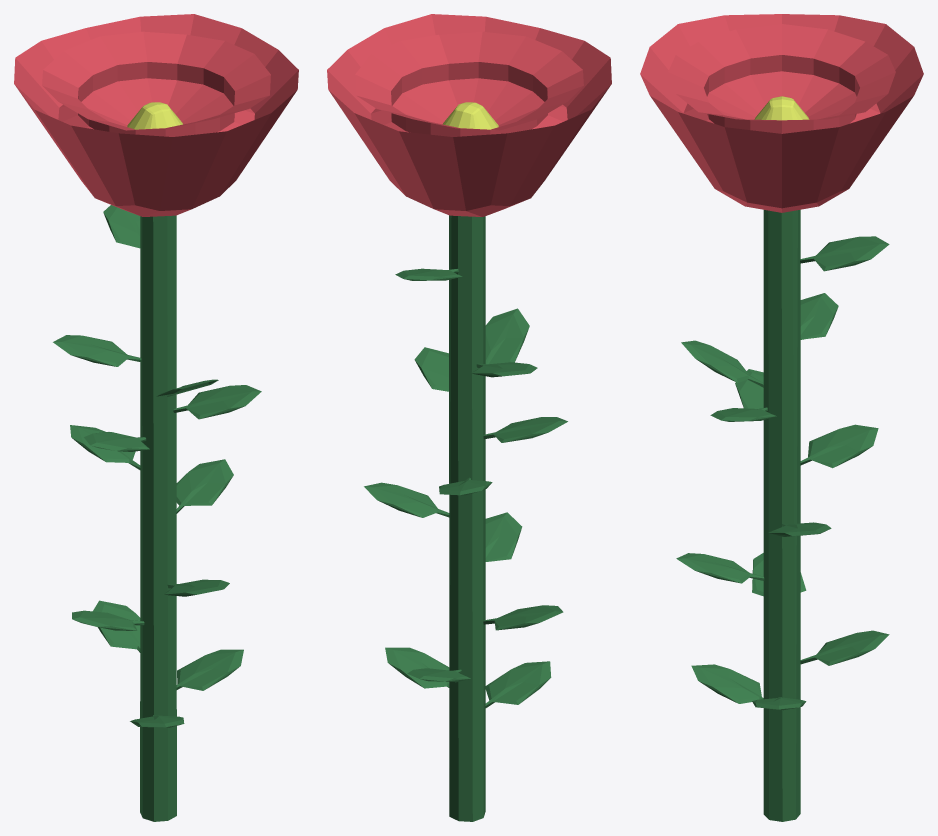
File: flower.gltf
The picture shows the model from 3 angles, left to right: view 1: azimuth 30°, elevation 25°; view 2: azimuth 150°, elevation 25°; view 3: azimuth 270°, elevation 25°; orthographic projection.
Parts seen in each view (by area): view 1: pistil, tige, feuille.003, feuille.009, feuille.004, feuille.011, feuille.008, feuille.007, feuille.002, feuille.001, feuille.006, feuille.005 (+1 smaller); view 2: pistil, tige, feuille.010, feuille, feuille.003, feuille.005, feuille.009, feuille.001, feuille.006, feuille.004, feuille.011, feuille.007 (+2 smaller); view 3: pistil, tige, feuille.002, feuille.007, feuille.010, feuille.008, feuille.011, feuille, feuille.005, feuille.001, feuille.004, feuille.003 (+1 smaller).
Boxes of the visible parts, left/top/right/bottom form: pistil: left=14, top=14, right=298, bottom=216; tige: left=140, top=215, right=176, bottom=821; feuille.003: left=176, top=459, right=233, bottom=513; feuille.009: left=176, top=649, right=243, bottom=690; feuille.004: left=173, top=385, right=261, bottom=419; feuille.011: left=53, top=335, right=141, bottom=366; feuille.008: left=93, top=600, right=140, bottom=652; feuille.007: left=103, top=205, right=140, bottom=248; feuille.002: left=70, top=425, right=140, bottom=469; feuille.001: left=84, top=432, right=149, bottom=451; feuille.006: left=72, top=610, right=144, bottom=630; feuille.005: left=164, top=579, right=229, bottom=596; pistil: left=327, top=14, right=611, bottom=216; tige: left=449, top=215, right=485, bottom=821; feuille.010: left=485, top=661, right=551, bottom=707; feuille: left=485, top=308, right=529, bottom=364; feuille.003: left=364, top=482, right=449, bottom=517; feuille.005: left=485, top=512, right=522, bottom=561; feuille.009: left=385, top=647, right=449, bottom=688; feuille.001: left=483, top=417, right=567, bottom=442; feuille.006: left=483, top=605, right=563, bottom=630; feuille.004: left=414, top=347, right=448, bottom=391; feuille.011: left=471, top=362, right=537, bottom=377; feuille.007: left=395, top=268, right=462, bottom=280; pistil: left=640, top=14, right=923, bottom=212; tige: left=763, top=209, right=800, bottom=821; feuille.002: left=800, top=424, right=878, bottom=468; feuille.007: left=800, top=236, right=889, bottom=271; feuille.010: left=691, top=664, right=763, bottom=703; feuille.008: left=800, top=630, right=889, bottom=665; feuille.011: left=800, top=293, right=838, bottom=339; feuille: left=681, top=340, right=763, bottom=387; feuille.005: left=676, top=553, right=764, bottom=583; feuille.001: left=735, top=369, right=763, bottom=408; feuille.004: left=710, top=407, right=776, bottom=421; feuille.003: left=768, top=522, right=831, bottom=536.
Size of the model in its own units: 0.2325 by 0.6736 by 0.2325.
